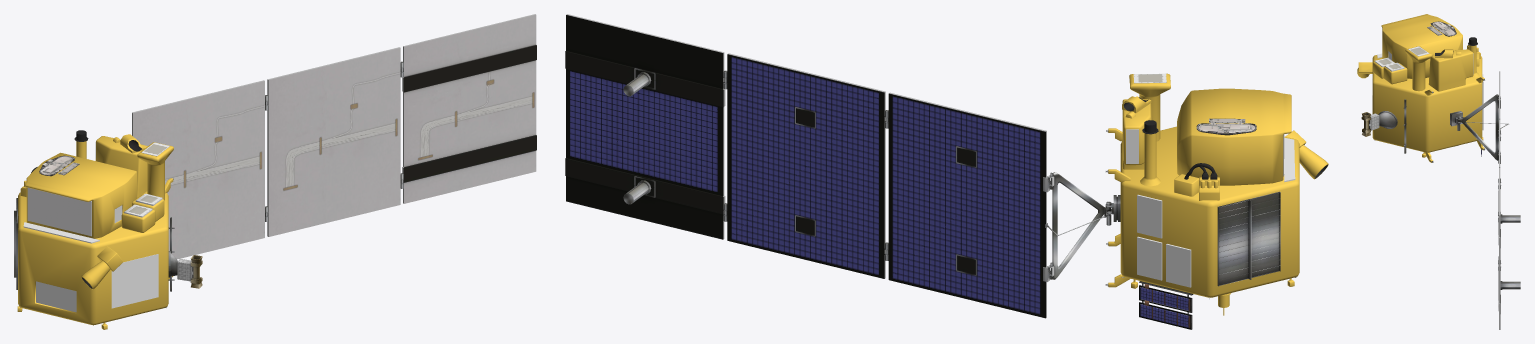
3 views of the same model, side by side, from view 1: azimuth 30°, elevation 25°; view 2: azimuth 150°, elevation 25°; view 3: azimuth 270°, elevation 25° (orthographic). The views are drawn at different scales.
Parts seen in each view (by area): view 1: instruments, BUS, radiator, reflectors, tracker; view 2: instruments, BUS, radiator, reflectors, tracker; view 3: BUS, instruments, tracker, hyperion sensor assembly, radiator.
Part boxes in pixels (bbox=[...]): instruments: bbox=[14, 14, 536, 325]; BUS: bbox=[17, 136, 173, 329]; radiator: bbox=[27, 187, 158, 308]; reflectors: bbox=[23, 142, 122, 312]; tracker: bbox=[81, 246, 123, 289]; instruments: bbox=[565, 14, 1296, 329]; BUS: bbox=[1108, 73, 1299, 315]; radiator: bbox=[1137, 134, 1284, 287]; reflectors: bbox=[1126, 129, 1295, 182]; tracker: bbox=[1285, 130, 1328, 179]; BUS: bbox=[1372, 14, 1484, 162]; instruments: bbox=[1361, 21, 1520, 329]; tracker: bbox=[1357, 62, 1372, 78]; hyperion sensor assembly: bbox=[1435, 49, 1453, 58]; radiator: bbox=[1372, 74, 1483, 130].
Size of the model in its own units: 5.4 by 1.54 by 1.85.
Materials: 7 (2 with a texture image).
